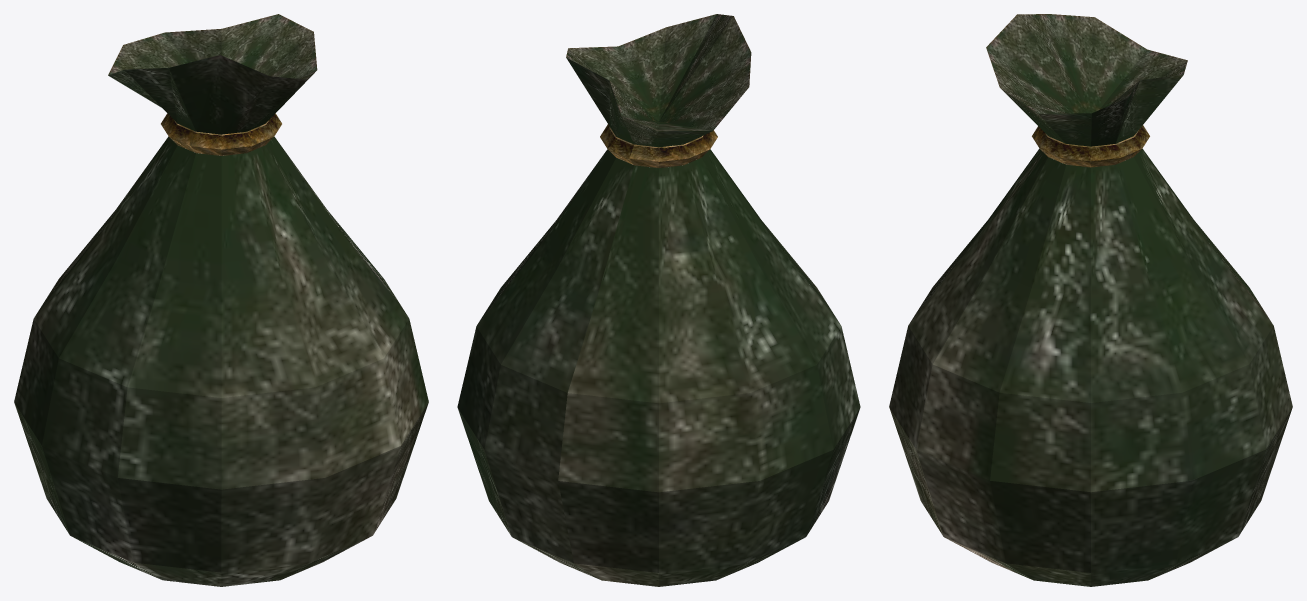
File: GS_MIX_GREEN_01_SZCZAWIK.glb
The picture shows the model from 3 angles, left to right: view 1: azimuth 30°, elevation 25°; view 2: azimuth 150°, elevation 25°; view 3: azimuth 270°, elevation 25°; orthographic projection. The views are drawn at different scales.
Parts seen in each view (by area): view 1: GS_MIX_GREEN_01_SZCZAWIK; view 2: GS_MIX_GREEN_01_SZCZAWIK; view 3: GS_MIX_GREEN_01_SZCZAWIK.
Part boxes in pixels (x1,y1,x2,y2): GS_MIX_GREEN_01_SZCZAWIK: (14, 14, 428, 586); GS_MIX_GREEN_01_SZCZAWIK: (457, 14, 860, 586); GS_MIX_GREEN_01_SZCZAWIK: (889, 14, 1292, 586).
Size of the model in its own units: 0.2801 by 0.3871 by 0.2801.
2 materials, 2 textured.
